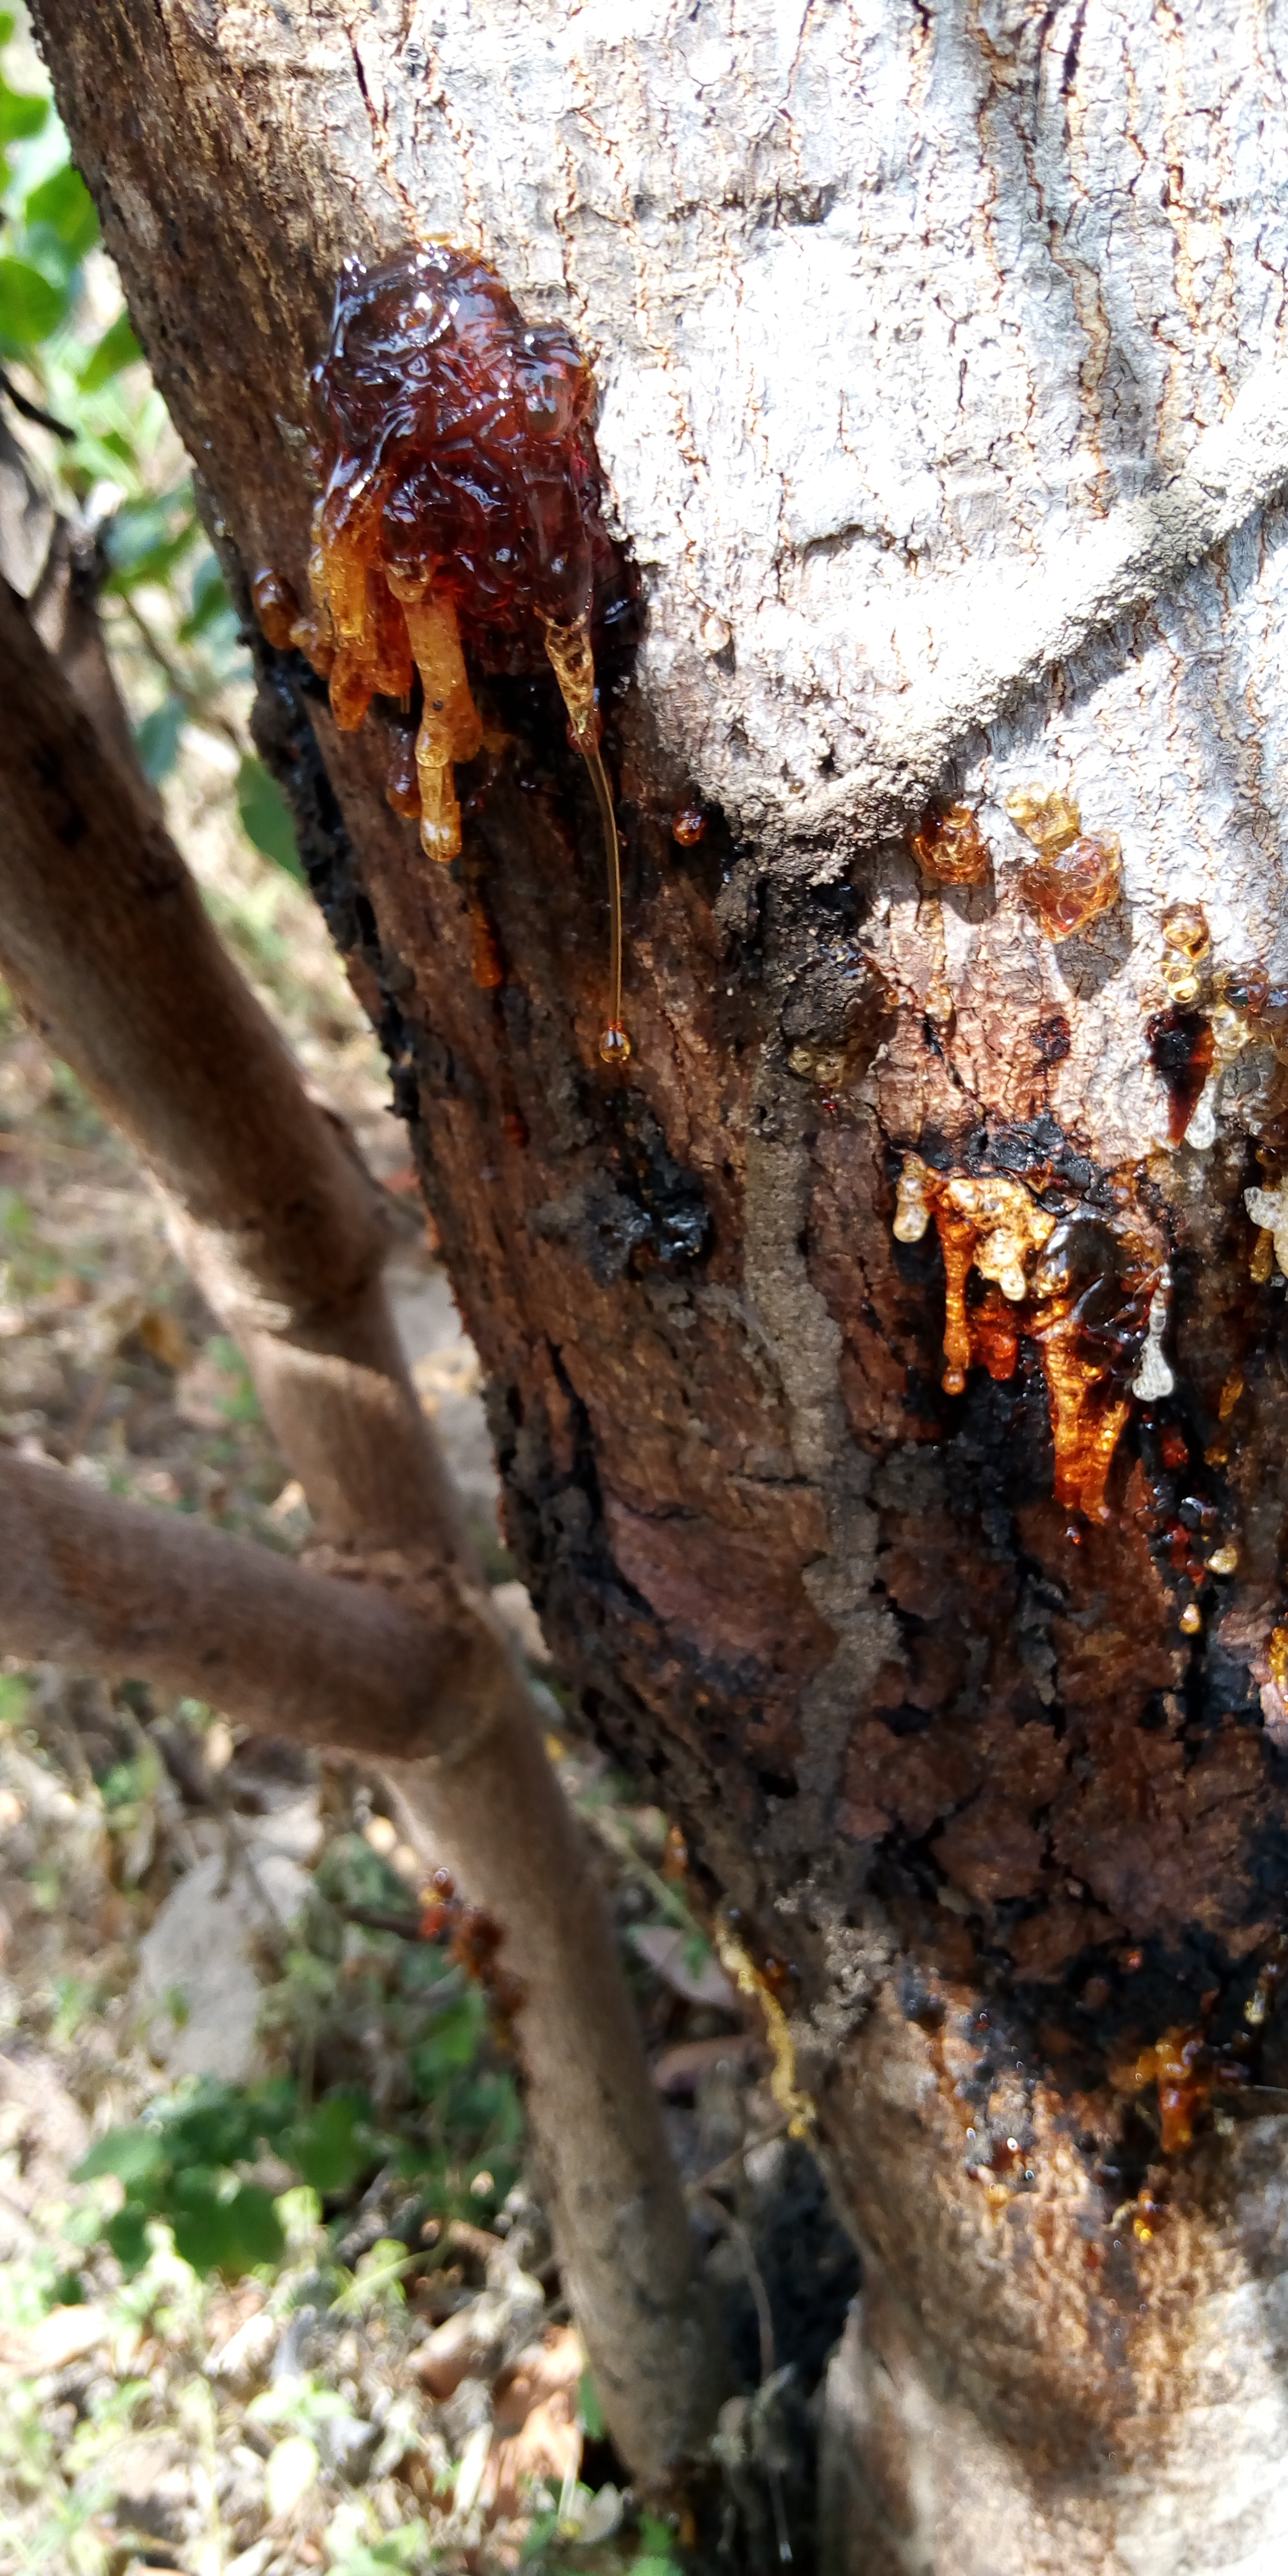Gommose: (271, 248, 710, 1106), (904, 833, 1288, 1804)
